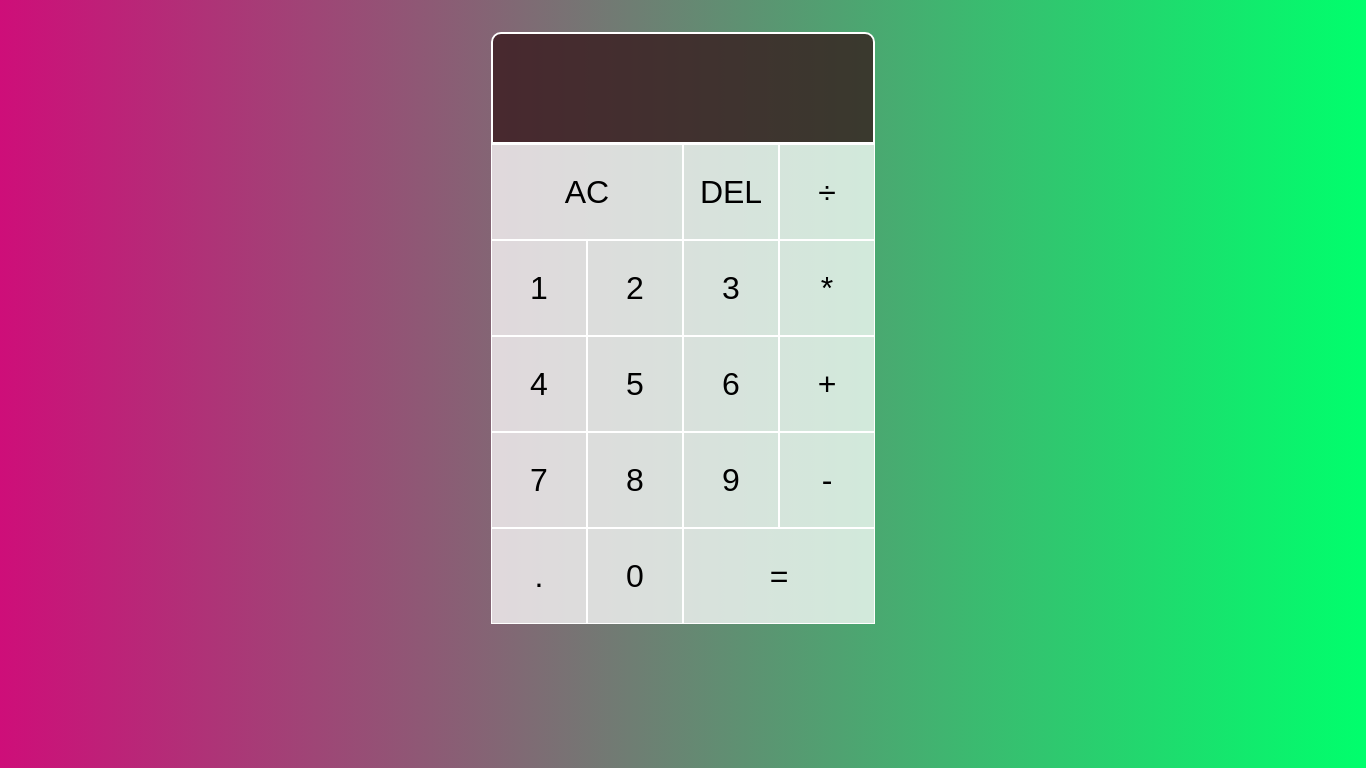
Test: App › displays the result of a basic addition operation
This screenshot has width=1366, height=768.
# Click on the number keys and the addition operation
What coordinates should you click on to do the following:
click the button "1"
I would click on:
 (539, 288)
Its box is [491,240,587,336].
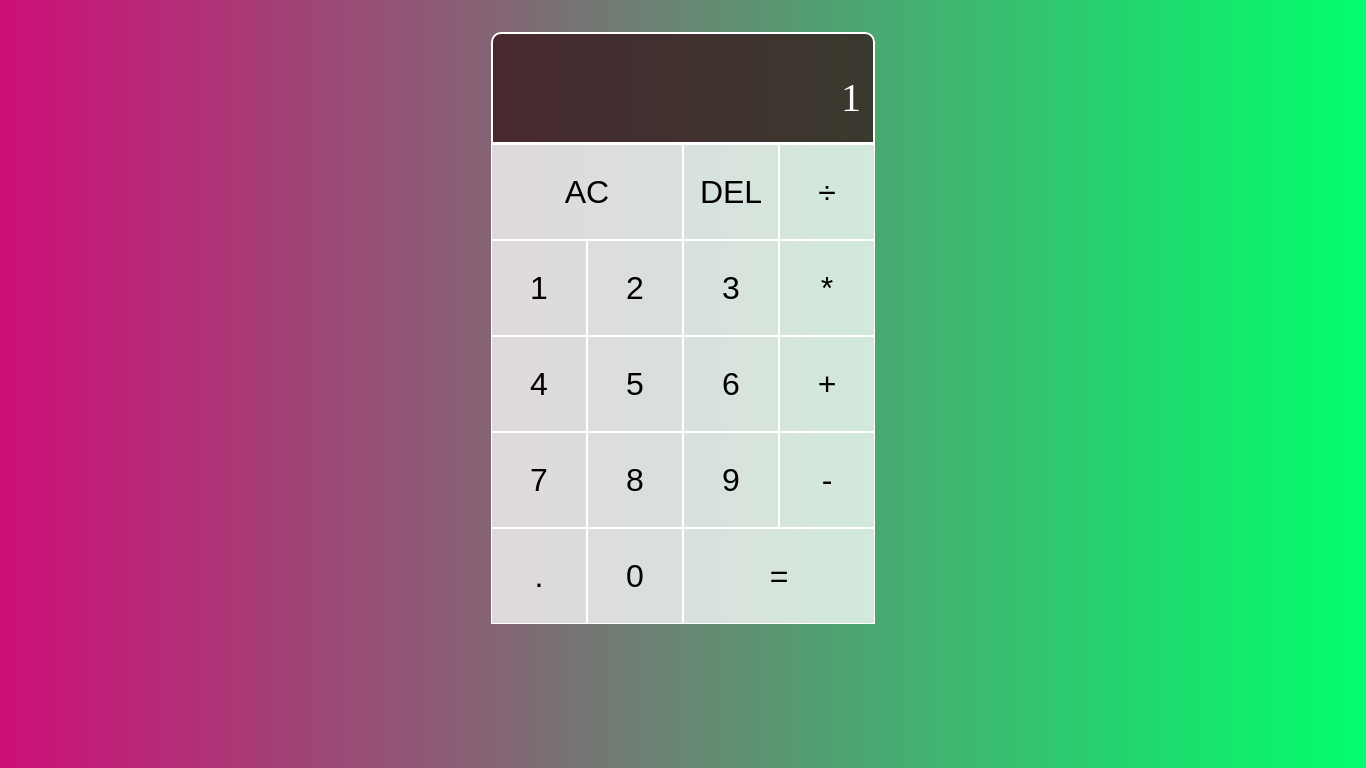
What coordinates should you click on to do the following:
click the button "+"
I would click on:
 (827, 384)
Its box is [779,336,875,432].
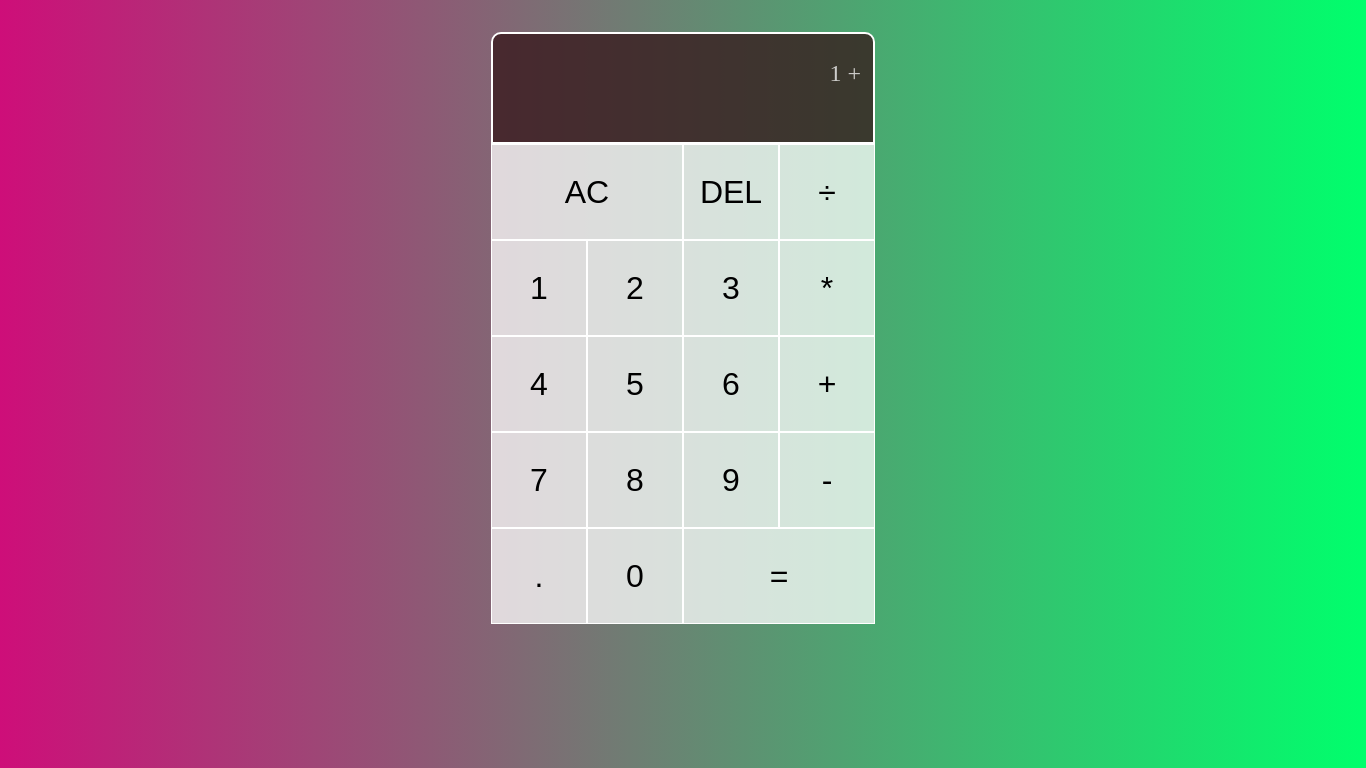
What coordinates should you click on to do the following:
click the button "2"
I would click on:
 (635, 288)
Its box is [587,240,683,336].
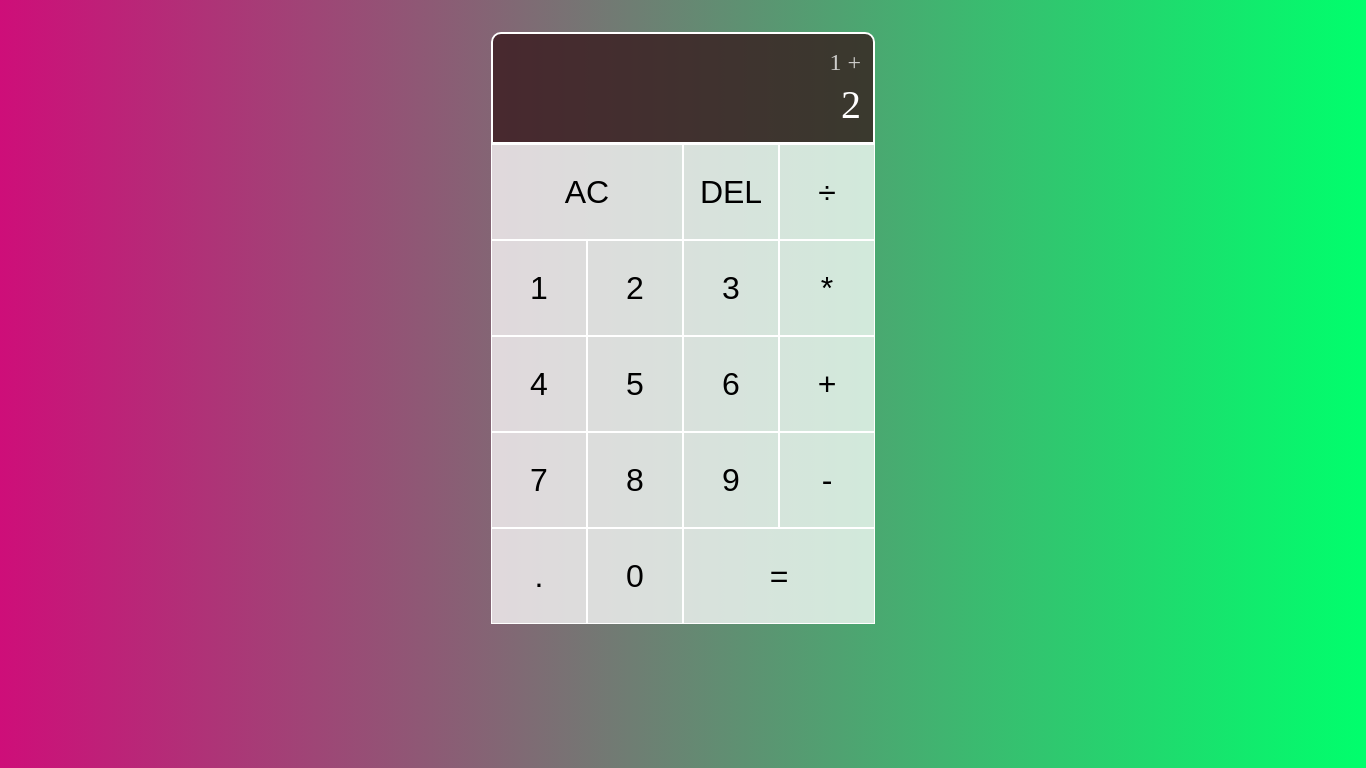
What coordinates should you click on to do the following:
click the button "="
I would click on:
 (779, 576)
Its box is [683,528,875,624].
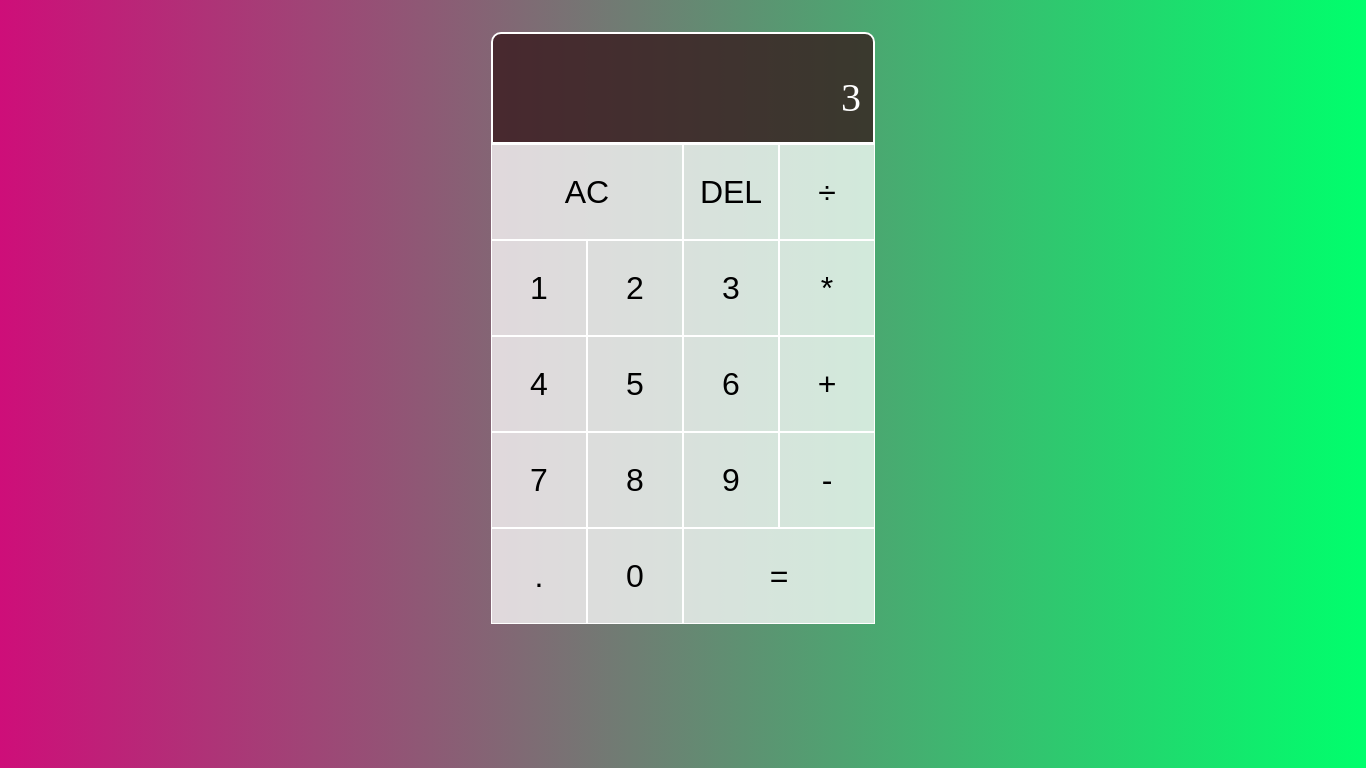
Check: the element with test id "output-display" reads "3", box [841,75,861,120]
